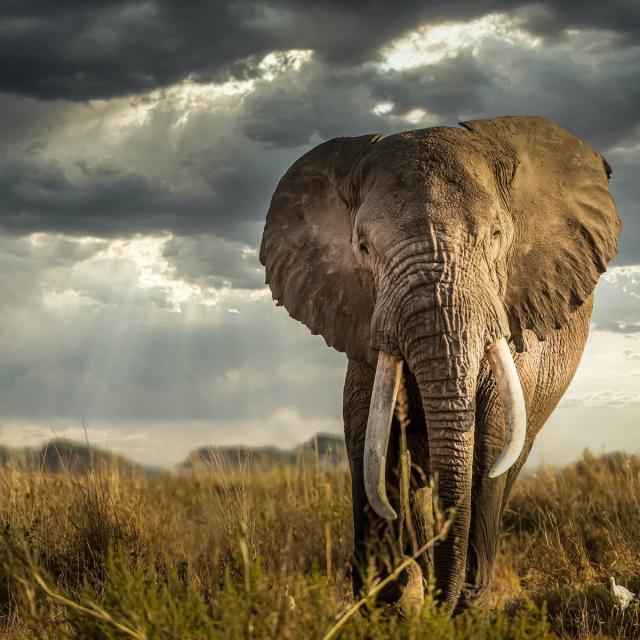elephant: (259, 116, 621, 612)
